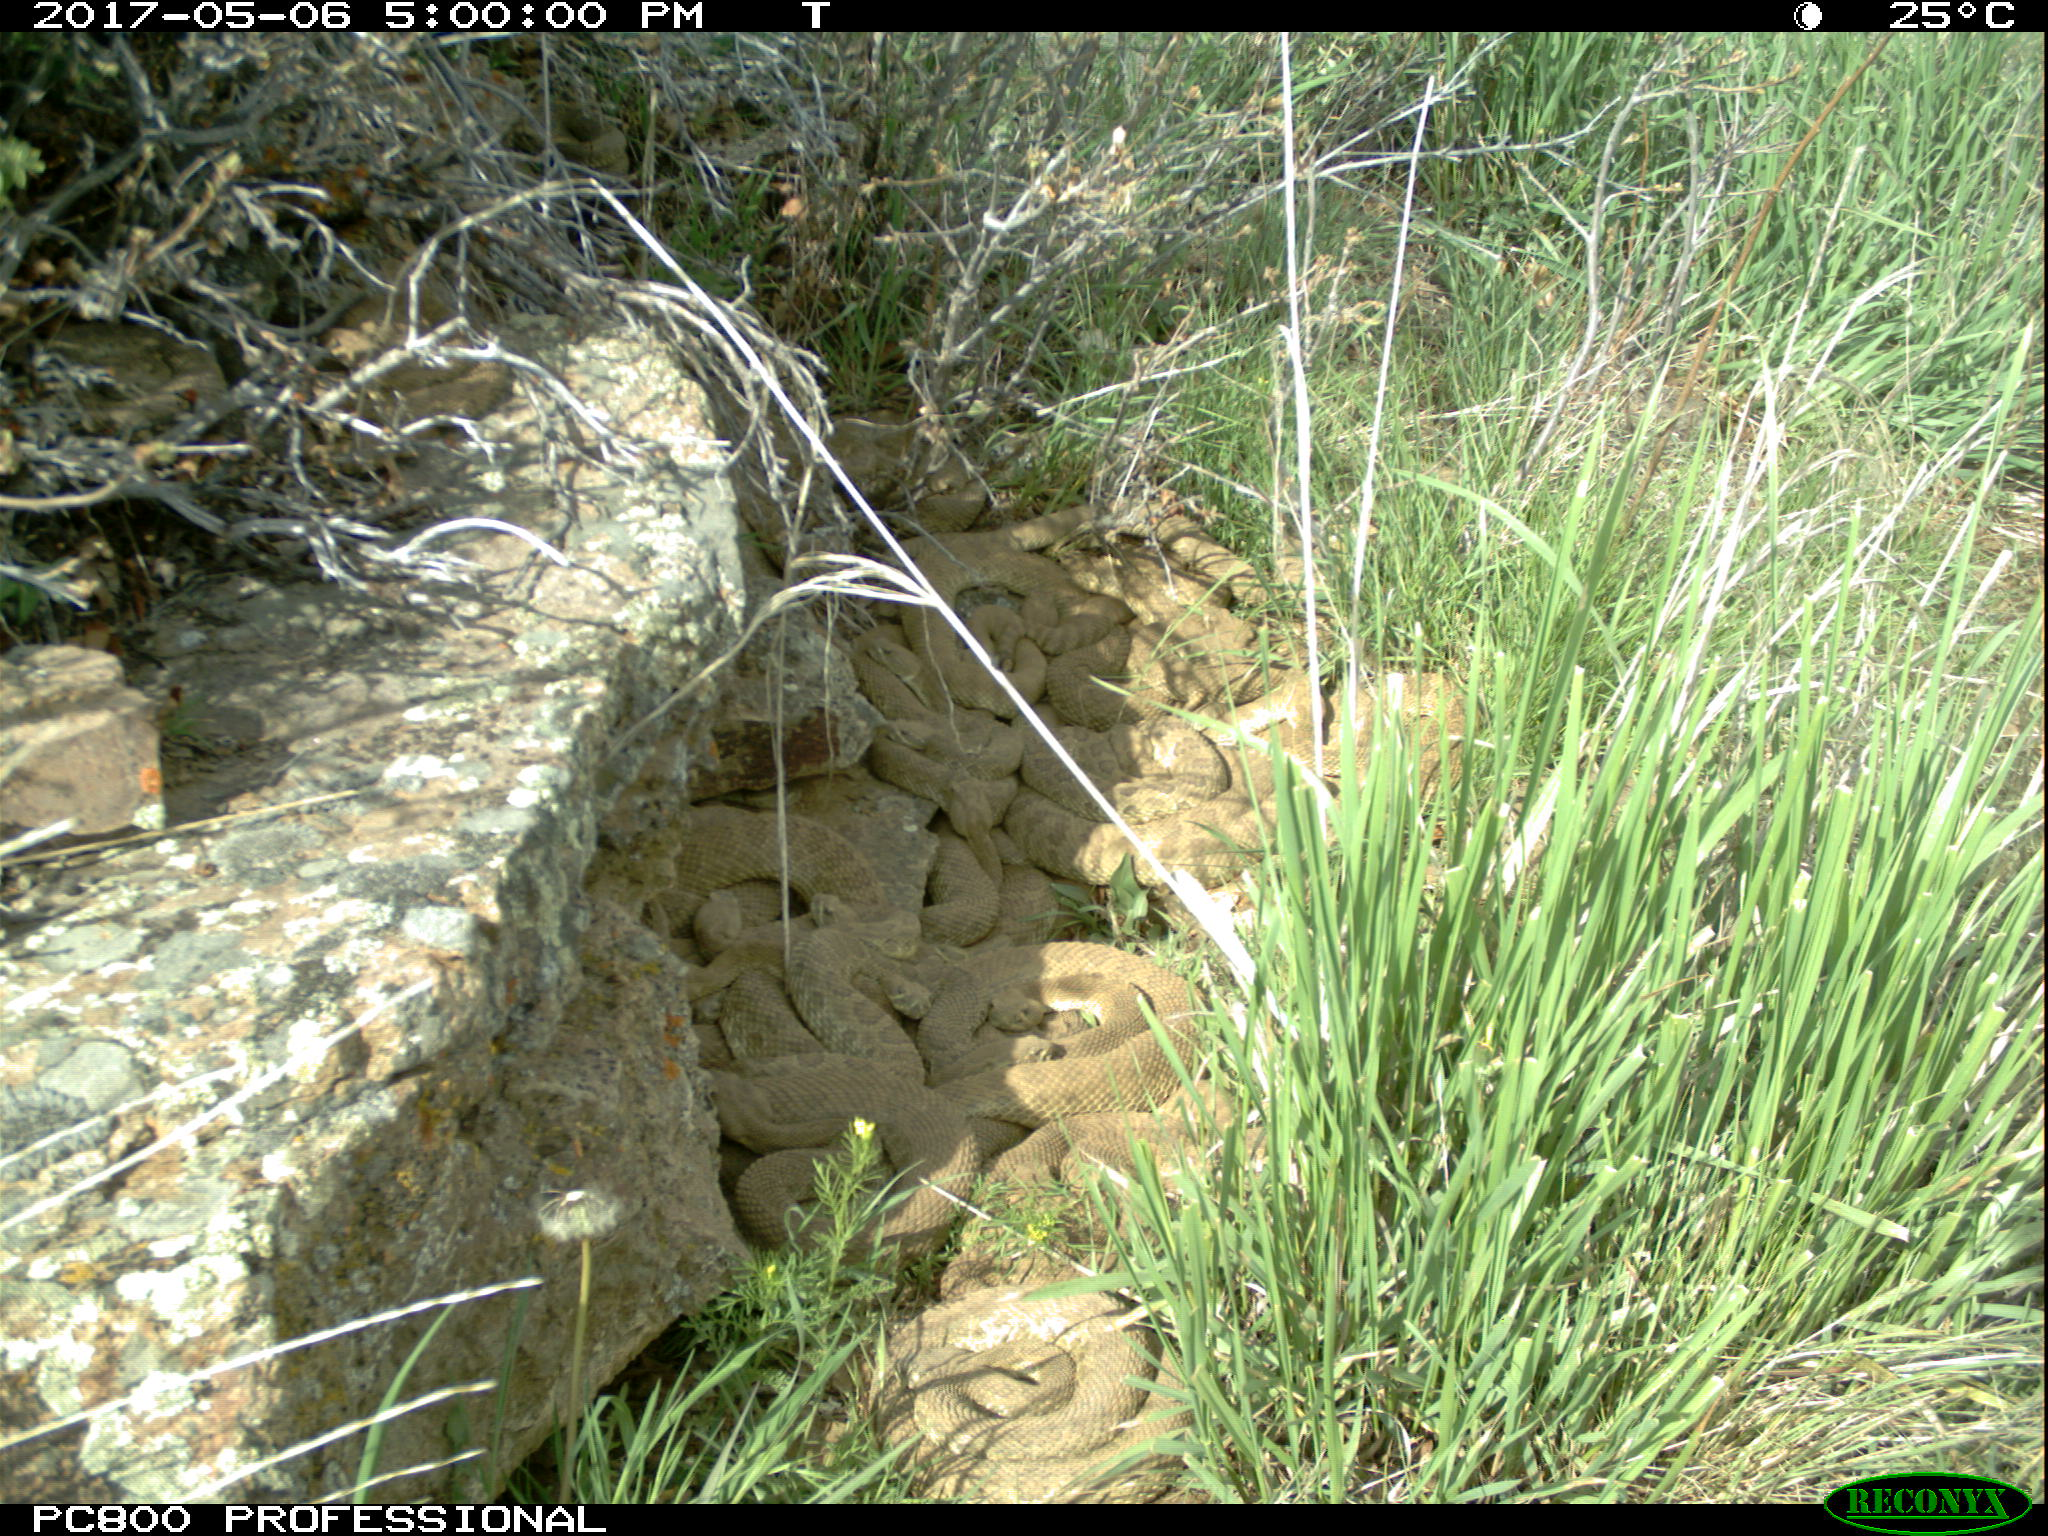snake: (855, 1276, 1190, 1504), (848, 542, 1192, 744), (684, 808, 947, 1058), (703, 1046, 1005, 1258), (922, 936, 1235, 1128), (1013, 713, 1306, 887), (314, 294, 510, 428), (819, 408, 1014, 526), (1324, 674, 1496, 797)
